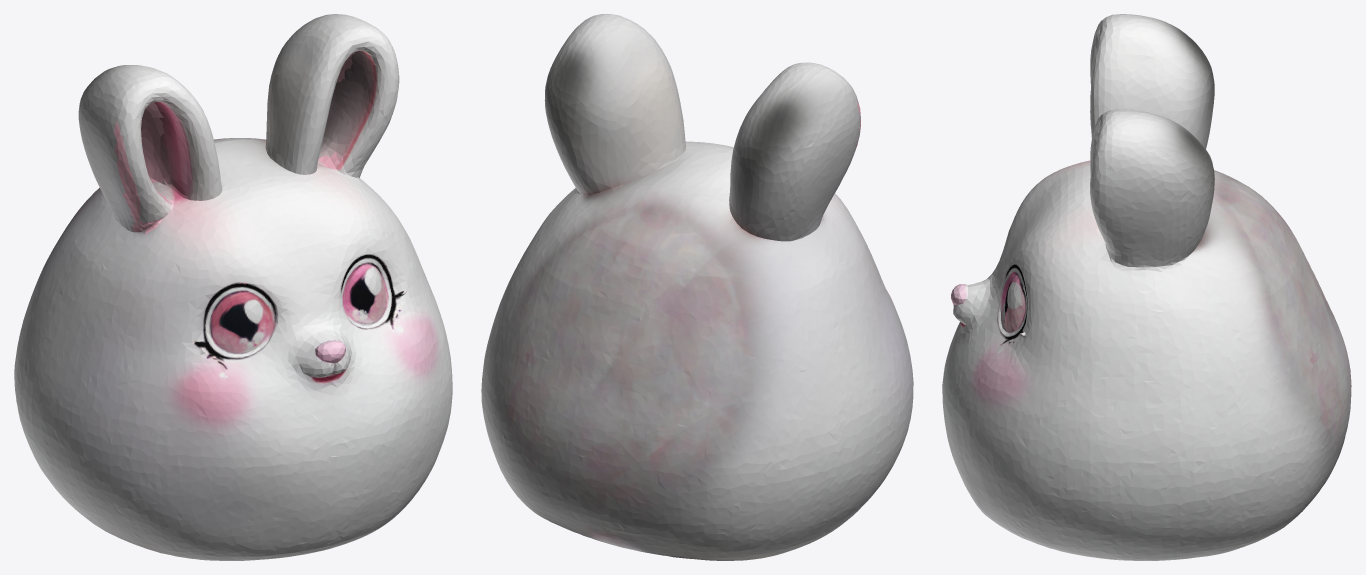
The model's file is char_mochi.glb.
The picture shows the model from 3 angles, left to right: view 1: azimuth 30°, elevation 25°; view 2: azimuth 150°, elevation 25°; view 3: azimuth 270°, elevation 25°; orthographic projection. The views are drawn at different scales.
Visible parts, largest first — view 1: world; view 2: world; view 3: world.
Boxes of the visible parts, <box> form: world: <box>14,14,452,560</box>; world: <box>481,14,913,560</box>; world: <box>942,14,1351,560</box>.
Bounding box in the file's own units: 0.8396 × 0.9994 × 0.8362.
1 material, 1 textured.
